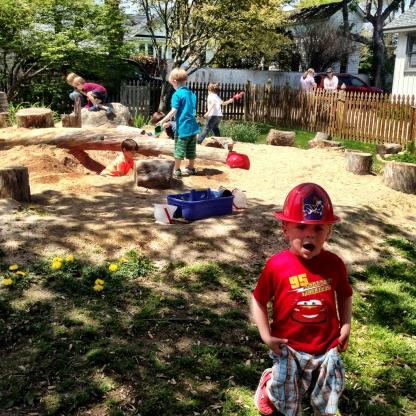Helmet: (280, 190, 340, 246)
